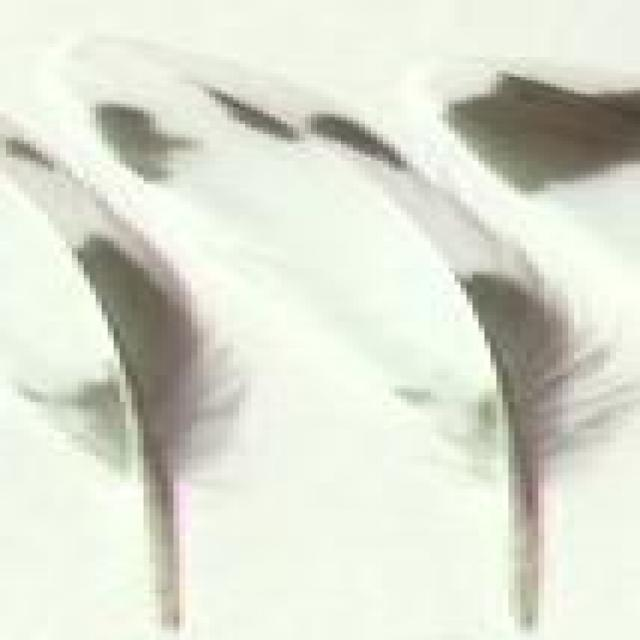feather: (60, 32, 640, 624), (0, 105, 247, 632)
